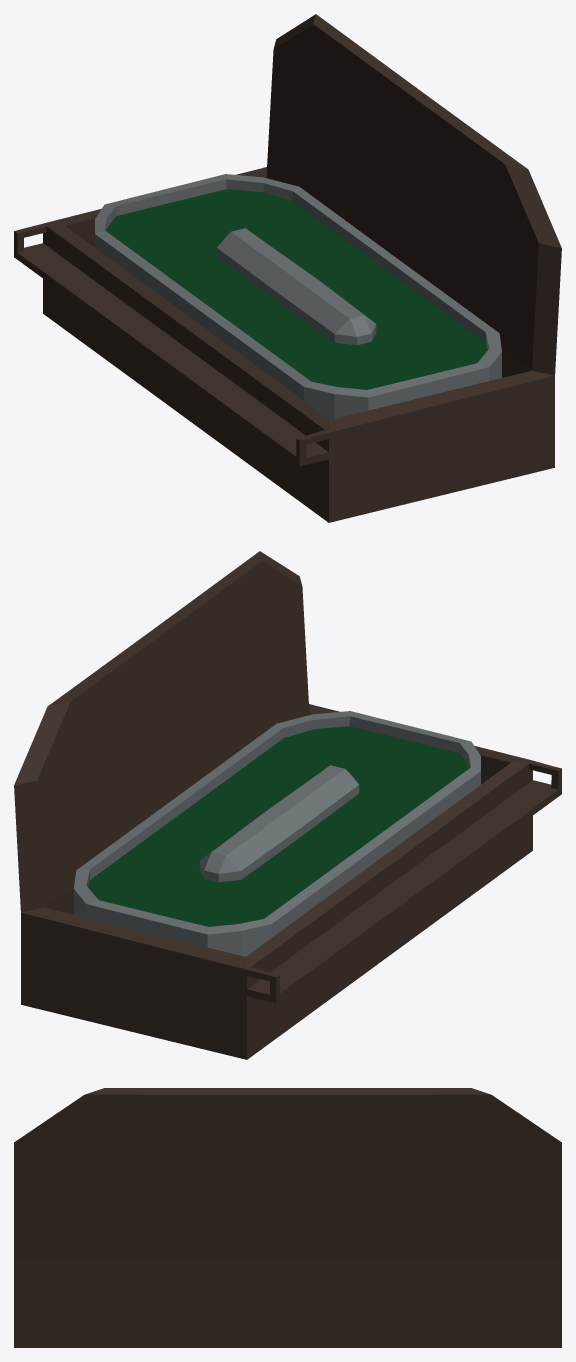
The model's file is ankkapeli.fbx.
3 renders of one model, top to bottom at view 1: azimuth 30°, elevation 25°; view 2: azimuth 150°, elevation 25°; view 3: azimuth 270°, elevation 25°, orthographic. The views are drawn at different scales.
Visible parts, largest first — view 1: reunat, vesi, sanko; view 2: reunat, vesi, sanko; view 3: reunat.
Boxes of the visible parts, left/top/right/bottom form: reunat: left=14, top=14, right=561, bottom=522; vesi: left=106, top=189, right=487, bottom=389; sanko: left=95, top=174, right=501, bottom=419; reunat: left=14, top=551, right=561, bottom=1059; vesi: left=88, top=726, right=469, bottom=926; sanko: left=74, top=711, right=480, bottom=956; reunat: left=14, top=1088, right=561, bottom=1347.
Size of the model in its own units: 160 by 155 by 298.
